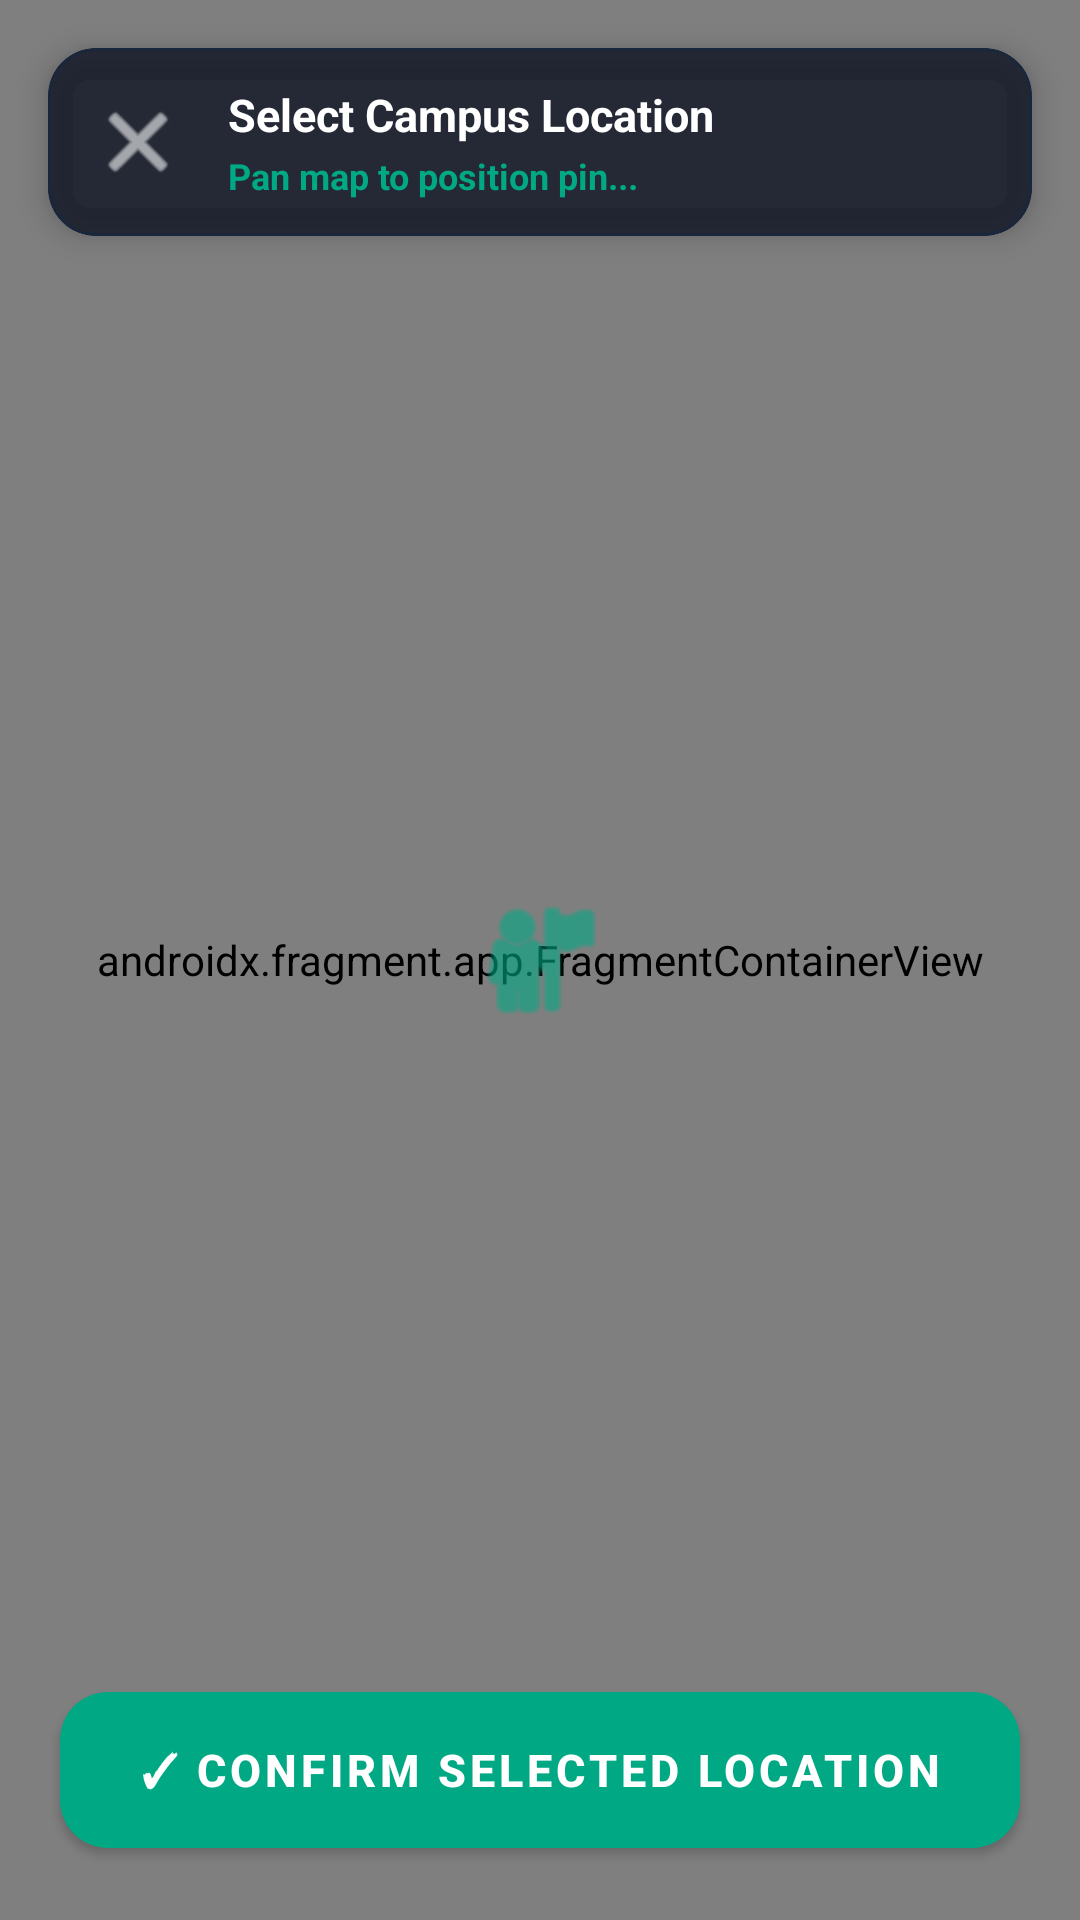

Screen size 1080px x 1920px. Icon name, then its center in pixels as (x=x, y=y):
Close: (x=138, y=142)
